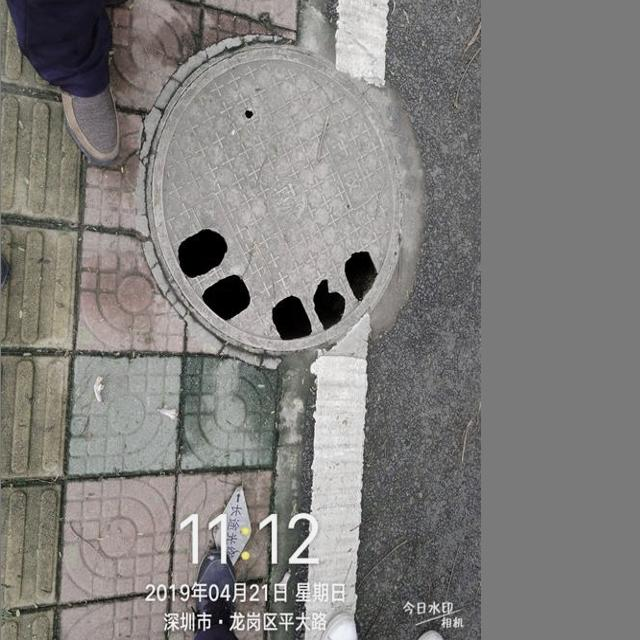broke: (135, 28, 430, 372)
